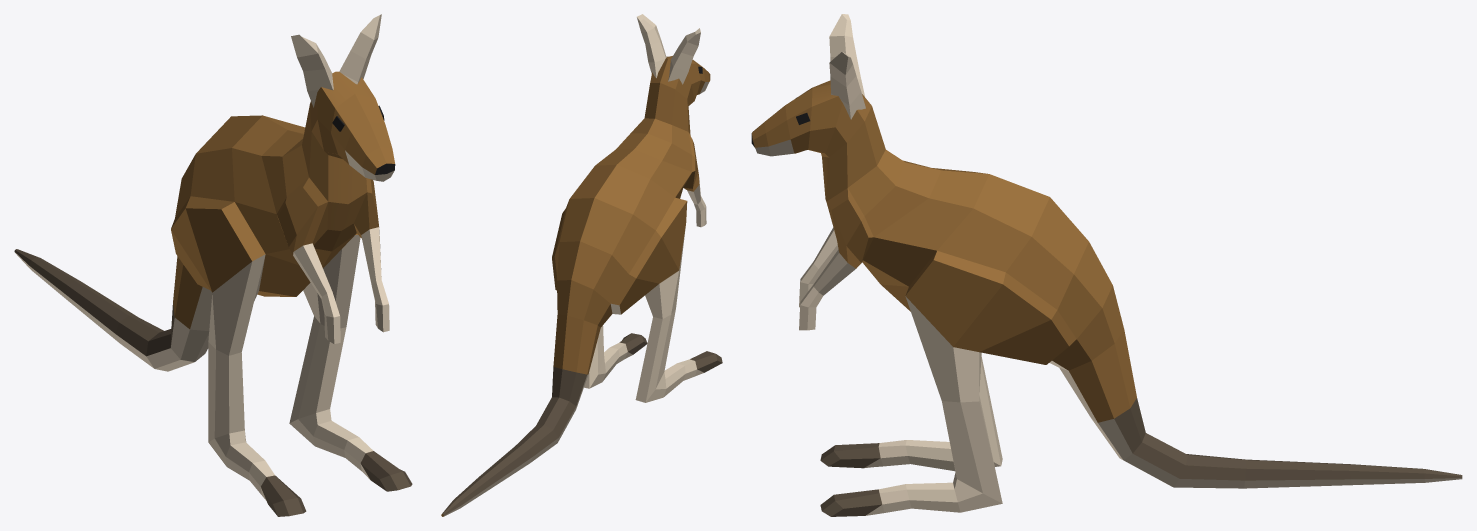
3 views of the same model, side by side, from view 1: azimuth 30°, elevation 25°; view 2: azimuth 150°, elevation 25°; view 3: azimuth 270°, elevation 25° (orthographic). The views are drawn at different scales.
Parts seen in each view (by area): view 1: Geo_Kangaroo; view 2: Geo_Kangaroo; view 3: Geo_Kangaroo.
Boxes of the visible parts, bbox=[...] form: Geo_Kangaroo: bbox=[14, 14, 412, 516]; Geo_Kangaroo: bbox=[441, 14, 722, 516]; Geo_Kangaroo: bbox=[751, 14, 1462, 516].
Size of the model in its own units: 40.06 by 129 by 182.
Materials: 1 (1 with a texture image).
